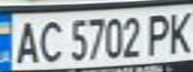0: (103, 13, 127, 60)
2: (121, 12, 145, 59)
5: (66, 16, 90, 62)
7: (84, 15, 106, 61)
A: (9, 17, 42, 65)
C: (36, 16, 66, 64)
K: (163, 8, 193, 55)
P: (145, 10, 175, 56)
